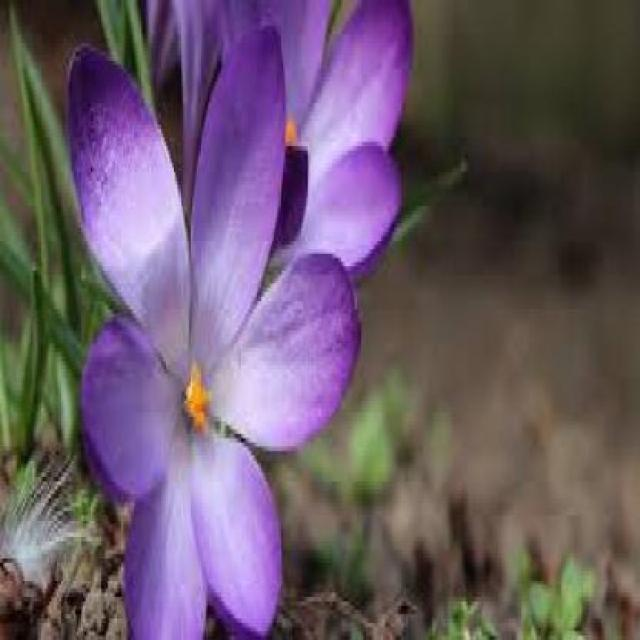Flower: (61, 34, 357, 640)
